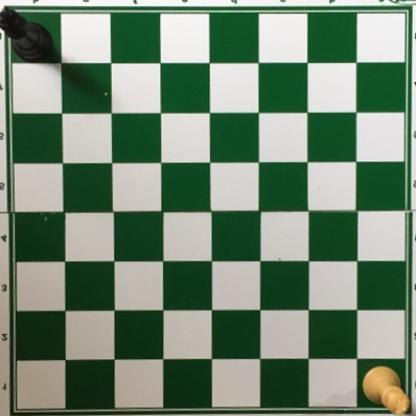black-king: (0, 7, 54, 64)
white-king: (359, 366, 411, 416)
